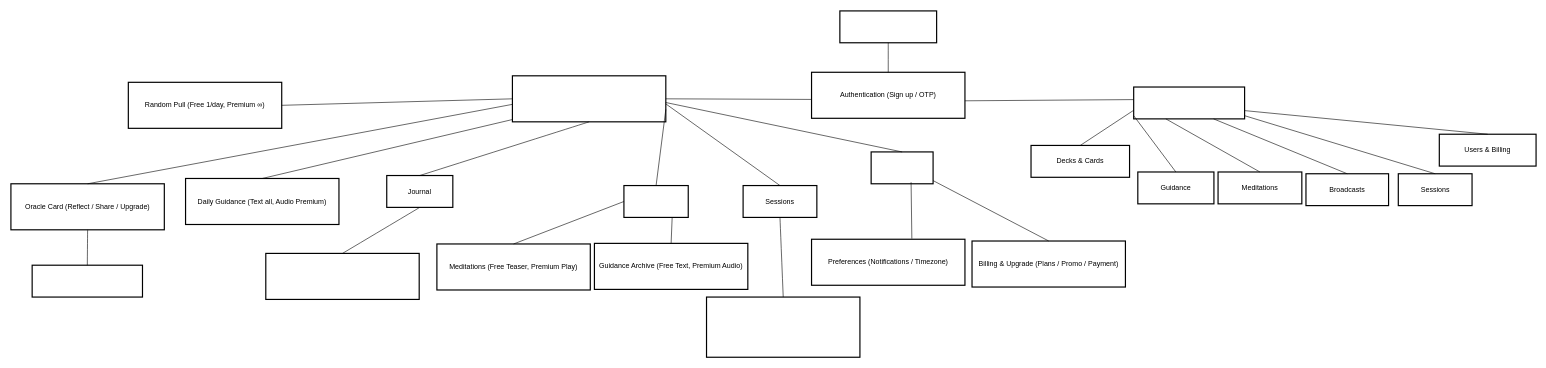
This 1546x368 diagram has some shape labels left out. The shapes that lost their labels are listed below. From the top down, each one's centre as x and y in pixels, then its label:
At (x=888, y=26): "Splash Screen".
At (x=589, y=98): "Home (Oracle / Pull / Guidance)".
At (x=1189, y=102): "Admin Dashboard".
At (x=901, y=167): "Profile".
At (x=656, y=201): "Library".
At (x=87, y=280): "Reflect → Journal".
At (x=342, y=276): "New Entry (Free 24h, Premium Save)".
At (x=783, y=327): "Session Detail (Free Locked, Premium RSVP/Join)".
